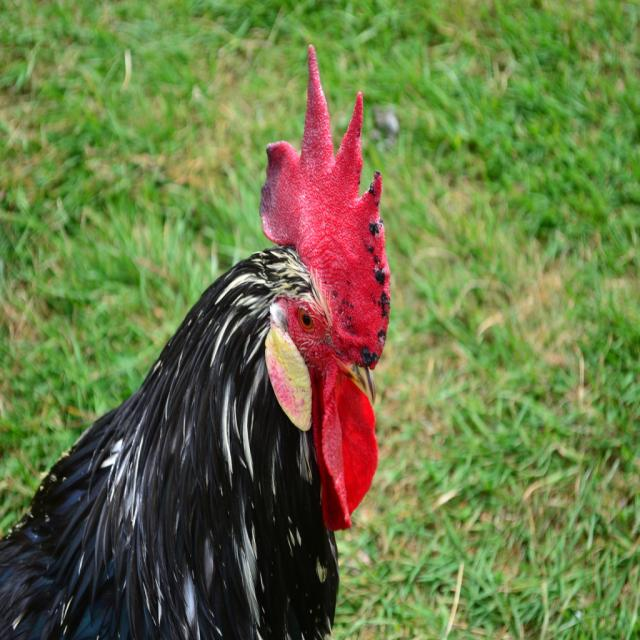Chicken: (1, 44, 392, 640)
